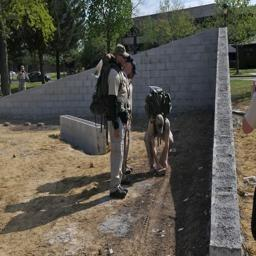no hat: (115, 36, 126, 70), (153, 113, 170, 133), (132, 61, 140, 88), (124, 55, 132, 79), (19, 61, 28, 73)
no vest: (103, 67, 123, 136), (120, 73, 129, 126), (128, 81, 136, 125), (18, 70, 31, 91)
